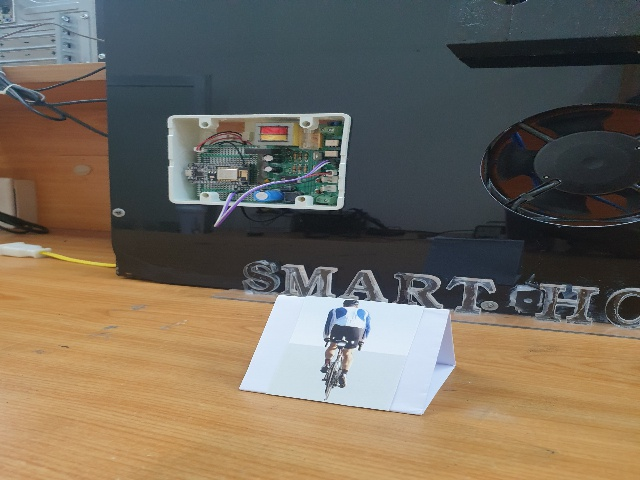Cyclist: (309, 300, 375, 401)
